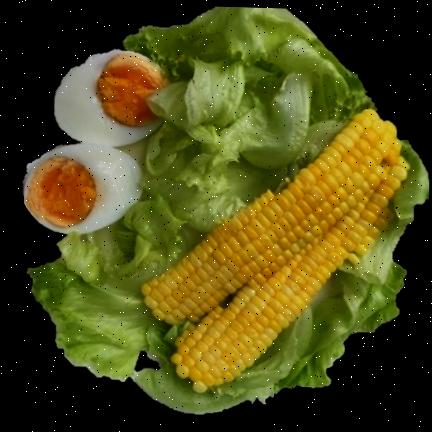corn: (142, 111, 406, 390)
egg: (22, 49, 171, 237)
salad: (32, 6, 429, 412)
